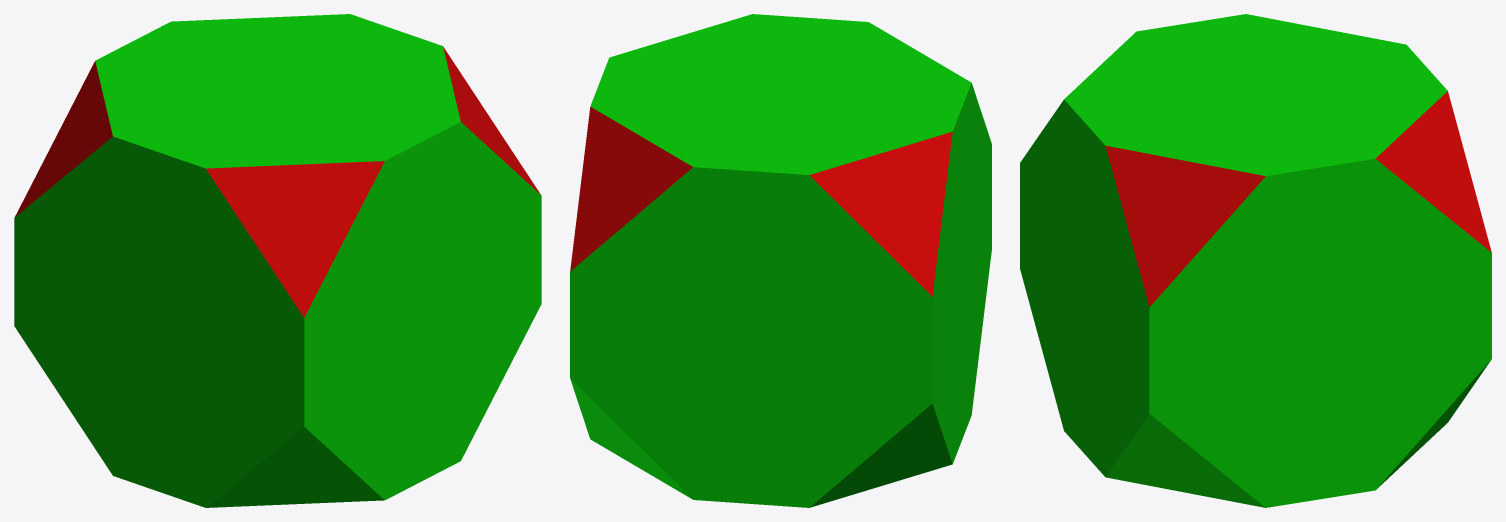
File: anim_cube_000040.obj
3 renders of one model, left to right at view 1: azimuth 30°, elevation 25°; view 2: azimuth 150°, elevation 25°; view 3: azimuth 270°, elevation 25°, orthographic. The views are drawn at different scales.
Visible parts, largest first — view 1: Cube_Cube.002_Material.002, Cube_Cube.002_Material.001; view 2: Cube_Cube.002_Material.002, Cube_Cube.002_Material.001; view 3: Cube_Cube.002_Material.002, Cube_Cube.002_Material.001.
Boxes of the visible parts, left/top/right/bottom form: Cube_Cube.002_Material.002: left=14, top=14, right=541, bottom=507; Cube_Cube.002_Material.001: left=14, top=46, right=540, bottom=317; Cube_Cube.002_Material.002: left=570, top=14, right=991, bottom=507; Cube_Cube.002_Material.001: left=570, top=107, right=952, bottom=296; Cube_Cube.002_Material.002: left=1020, top=14, right=1491, bottom=507; Cube_Cube.002_Material.001: left=1105, top=91, right=1491, bottom=307.
Size of the model in its own units: 3.99 by 3.09 by 3.99.
